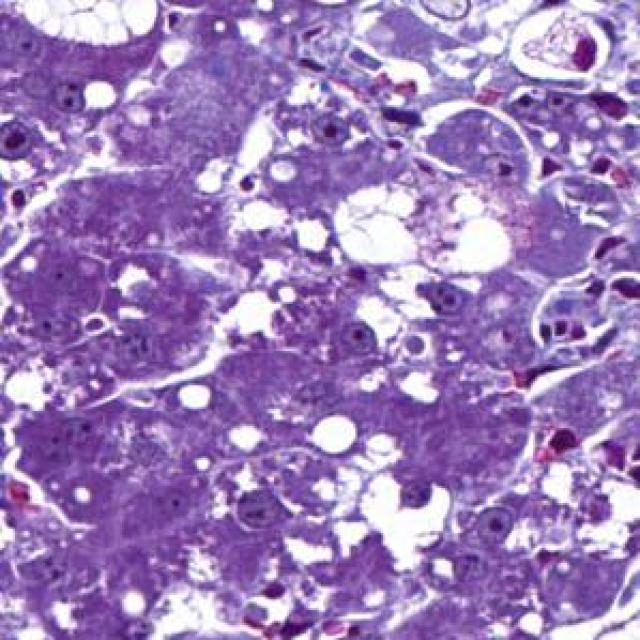ballooning: (330, 169, 518, 278), (503, 6, 616, 92), (13, 8, 165, 52)
